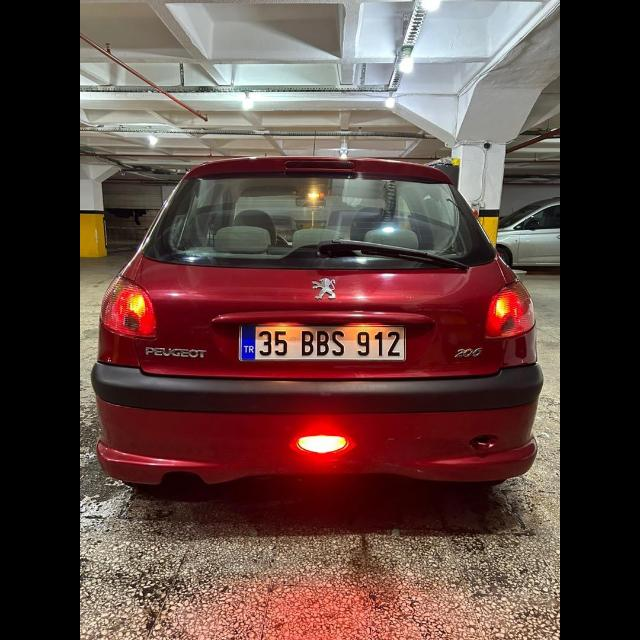Plaka: (242, 330, 404, 360)
